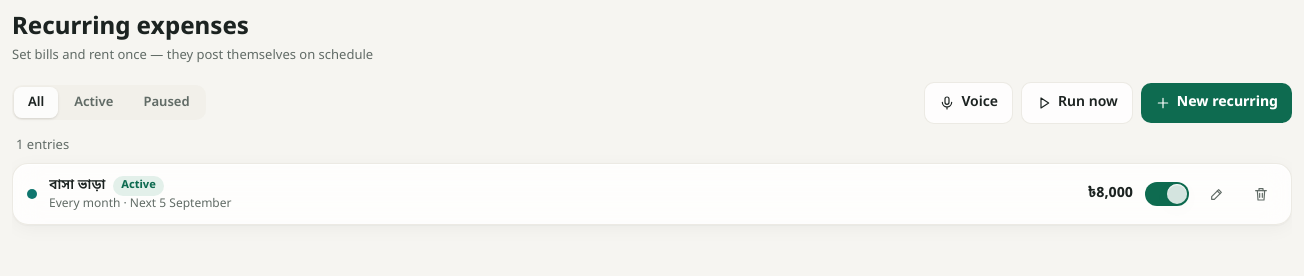
Test: Recurring screen › delete is two-step and removes the rule
expect the text "বাসা ভাড়া" is shown: met, box [49, 176, 105, 195]
Click the button named "বাসা ভাড়া — Delete".
click(1261, 194)  # box [1245, 178, 1277, 210]
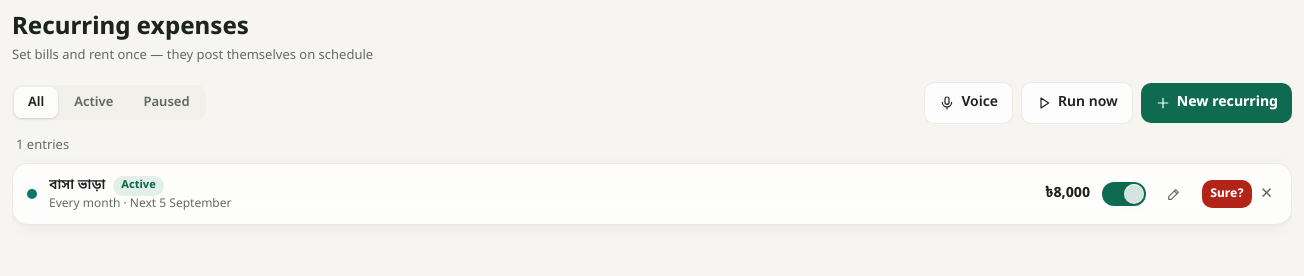
Click the button "Sure?".
click(1227, 194)  # box [1202, 180, 1252, 208]
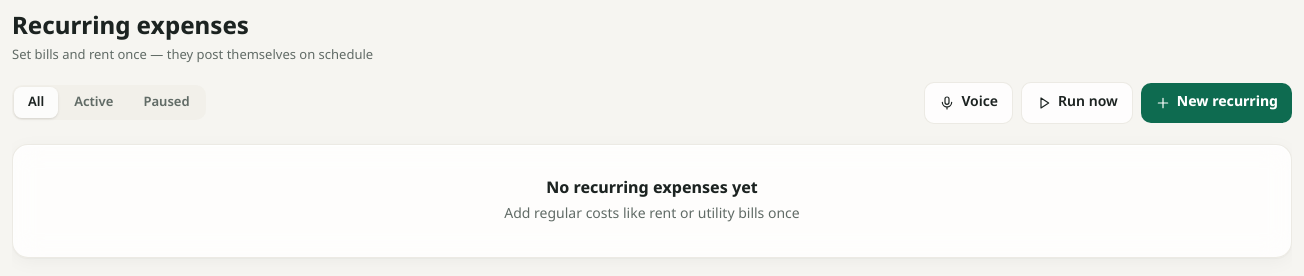
expect the text "No recurring expenses yet" is shown: met, box [546, 178, 758, 200]
